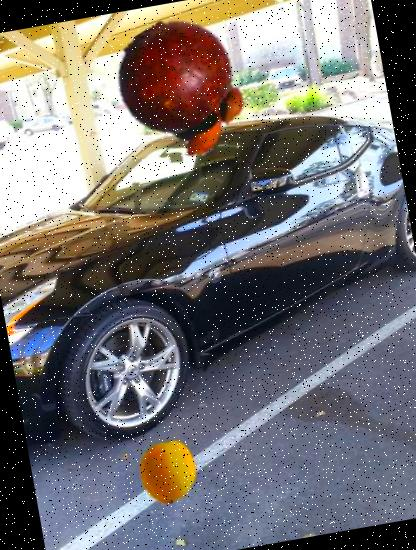Mangostan: (102, 8, 262, 168)
Peach: (132, 435, 204, 508)
